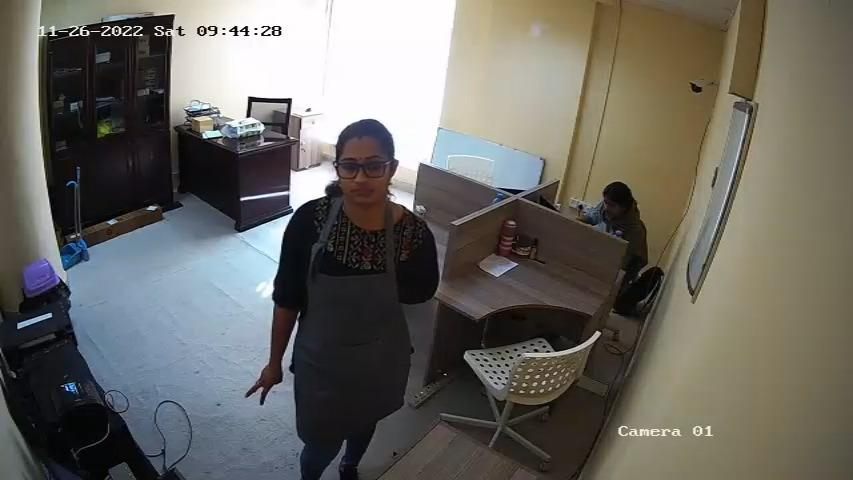apron: (305, 209, 411, 398)
